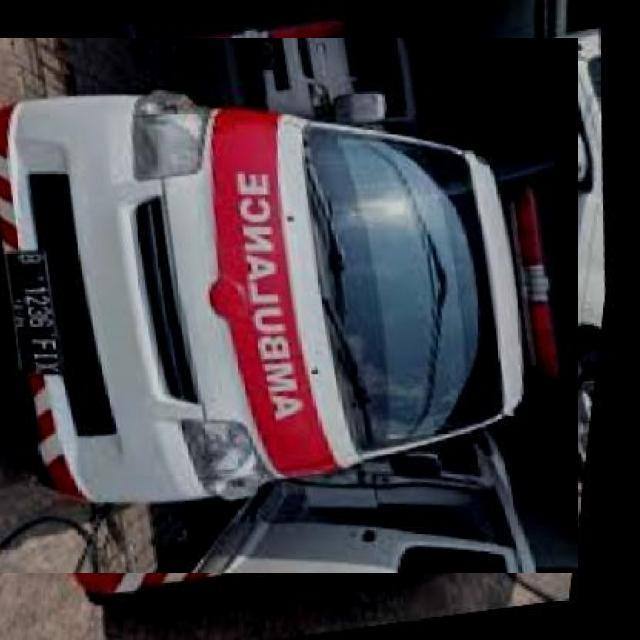emergency-vehicle: (0, 19, 559, 592)
